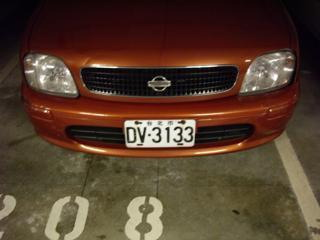plate: (122, 118, 197, 148)
